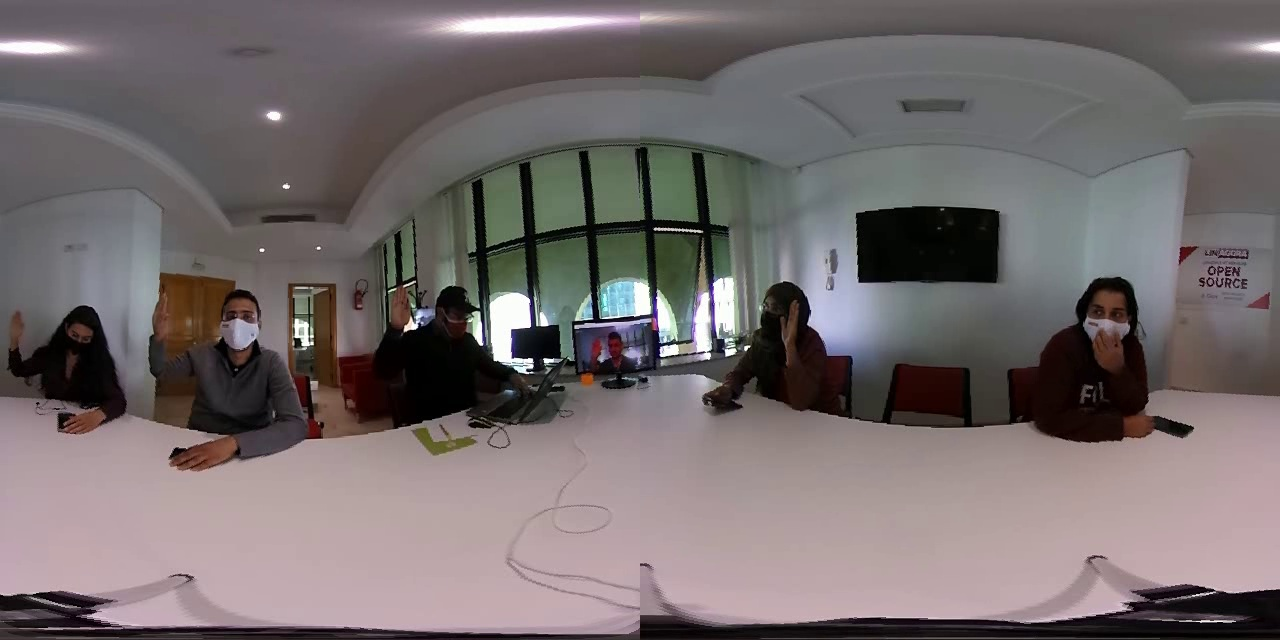person: (139, 272, 321, 465), (1024, 268, 1165, 452), (704, 264, 837, 433), (366, 262, 498, 426), (1, 281, 128, 433), (573, 317, 660, 381)
voting: (773, 293, 819, 411), (372, 276, 418, 385), (144, 282, 179, 388), (3, 299, 35, 383), (584, 328, 607, 374)
